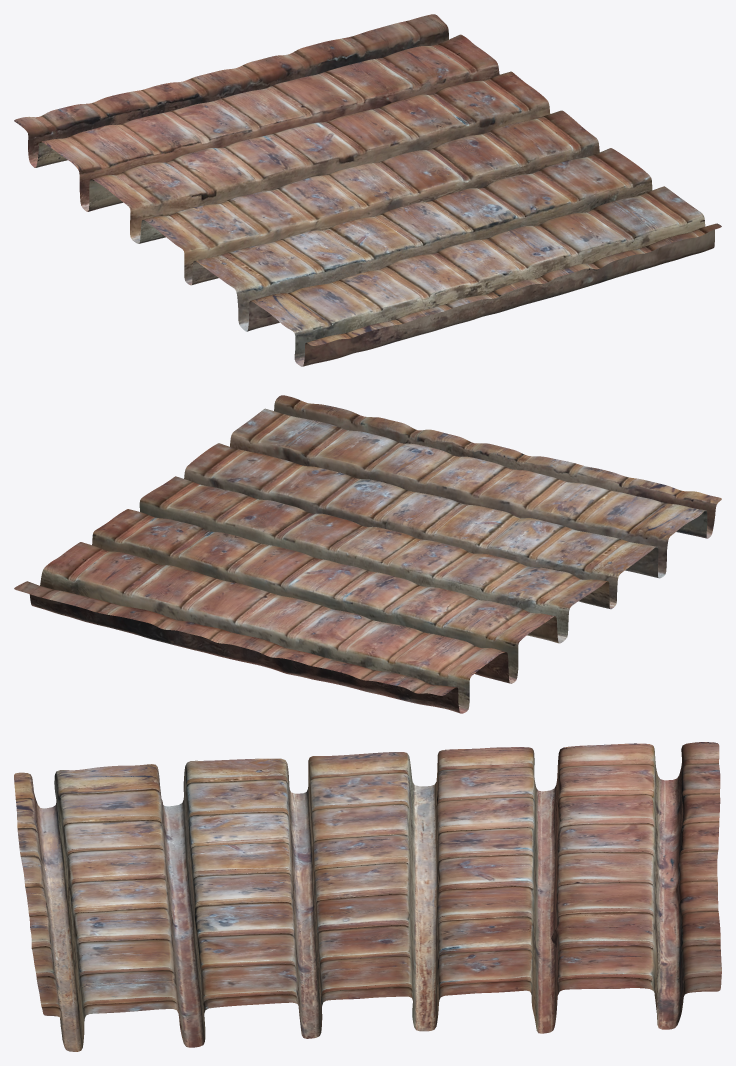
Rendered from wood_ceiling.glb.
3 renders of one model, top to bottom at view 1: azimuth 30°, elevation 25°; view 2: azimuth 150°, elevation 25°; view 3: azimuth 270°, elevation 25°, orthographic. The views are drawn at different scales.
Parts seen in each view (by area): view 1: Object_2; view 2: Object_2; view 3: Object_2.
Boxes of the visible parts, box(x1,y1,x2,y2) form: Object_2: box(14, 14, 721, 366); Object_2: box(14, 395, 721, 713); Object_2: box(14, 742, 721, 1051).
Bounding box in the file's own units: 3 × 0.3481 × 3.45.
1 material, 1 textured.
